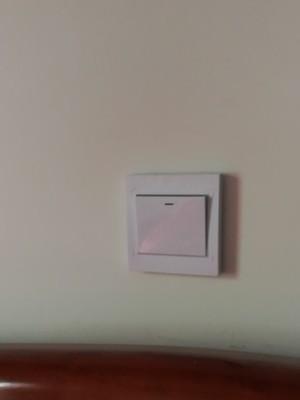switch: (134, 195, 209, 257)
